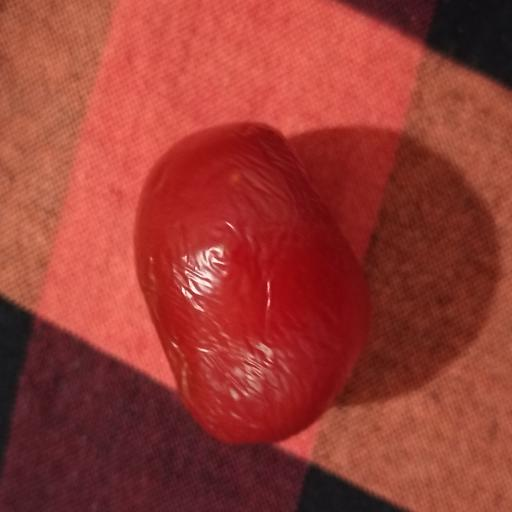spoiled: (135, 124, 369, 443)
